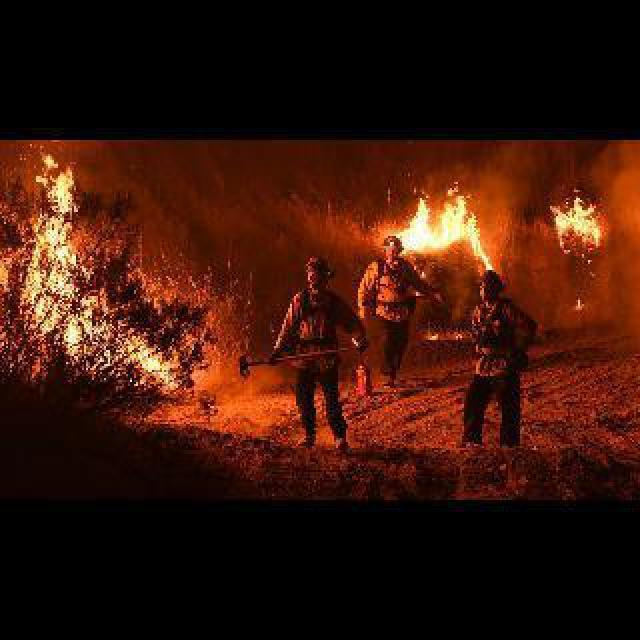zfire: (10, 158, 196, 386), (378, 184, 610, 262)
